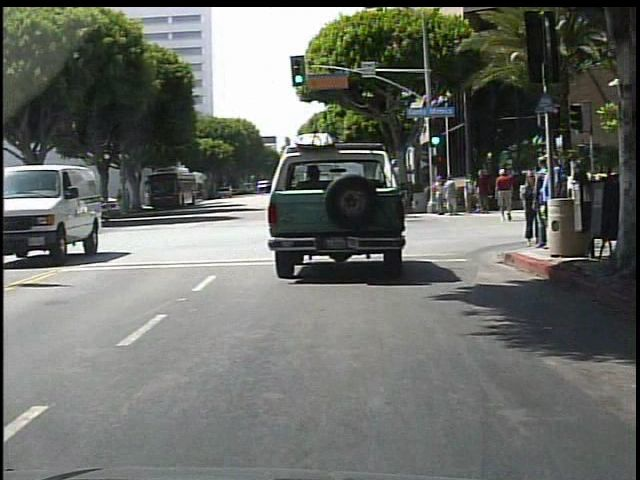person: (536, 152, 559, 259), (520, 169, 541, 248), (536, 153, 553, 250), (496, 167, 517, 222), (520, 176, 538, 223), (540, 171, 555, 219), (444, 176, 459, 217), (478, 169, 491, 212), (465, 173, 477, 213), (435, 176, 445, 214), (117, 188, 126, 212), (126, 188, 134, 213)
